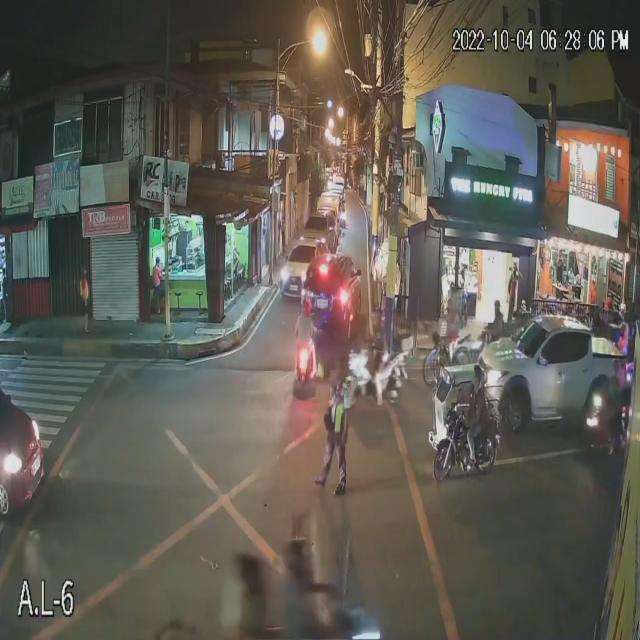Full-Faced: (301, 297, 313, 319)
